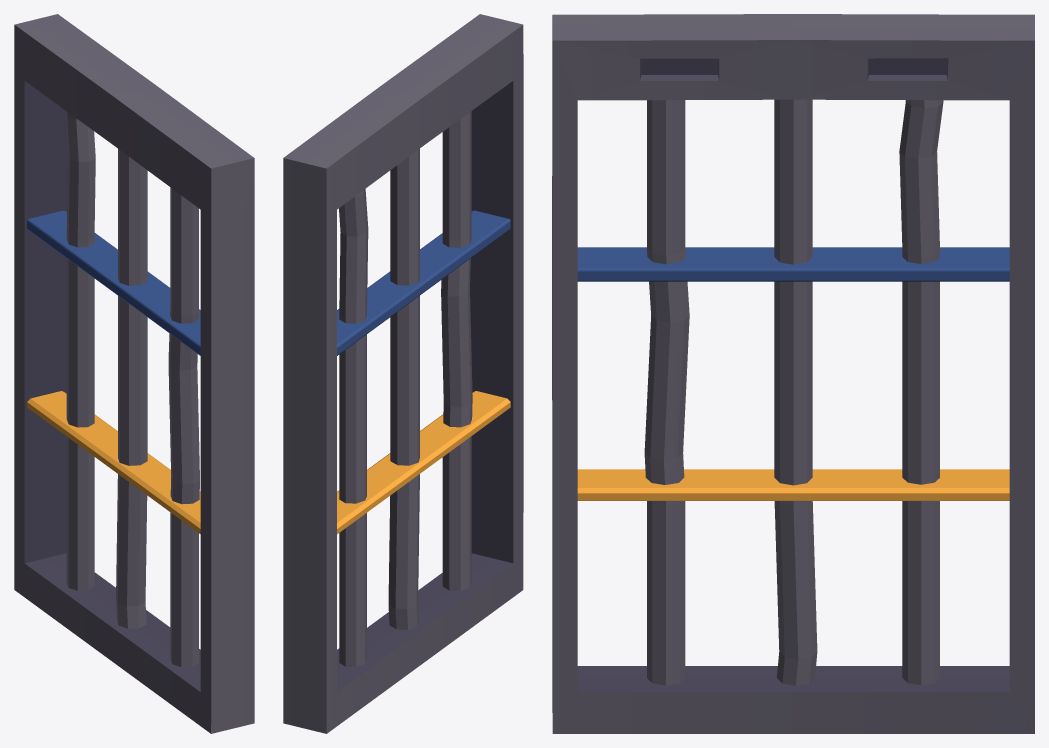
The model's file is prison cell.fbx.
The picture shows the model from 3 angles, left to right: view 1: azimuth 30°, elevation 25°; view 2: azimuth 150°, elevation 25°; view 3: azimuth 270°, elevation 25°; orthographic projection. The views are drawn at different scales.
Visible parts, largest first — view 1: jail_door_no_lock; view 2: jail_door_no_lock; view 3: jail_door_no_lock.
Boxes of the visible parts, box(x1,y1,x2,y2) form: jail_door_no_lock: box(14, 14, 254, 733); jail_door_no_lock: box(283, 14, 523, 733); jail_door_no_lock: box(552, 14, 1034, 733).
Size of the model in its own units: 0.6301 by 7.82 by 4.93.
Materials: 1 (1 with a texture image).
